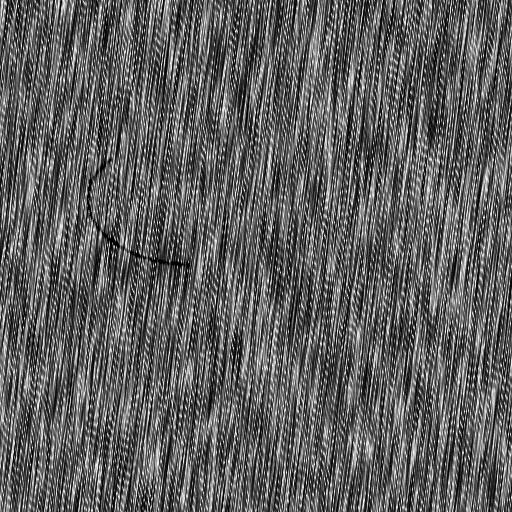scratch: (84, 154, 192, 273)
